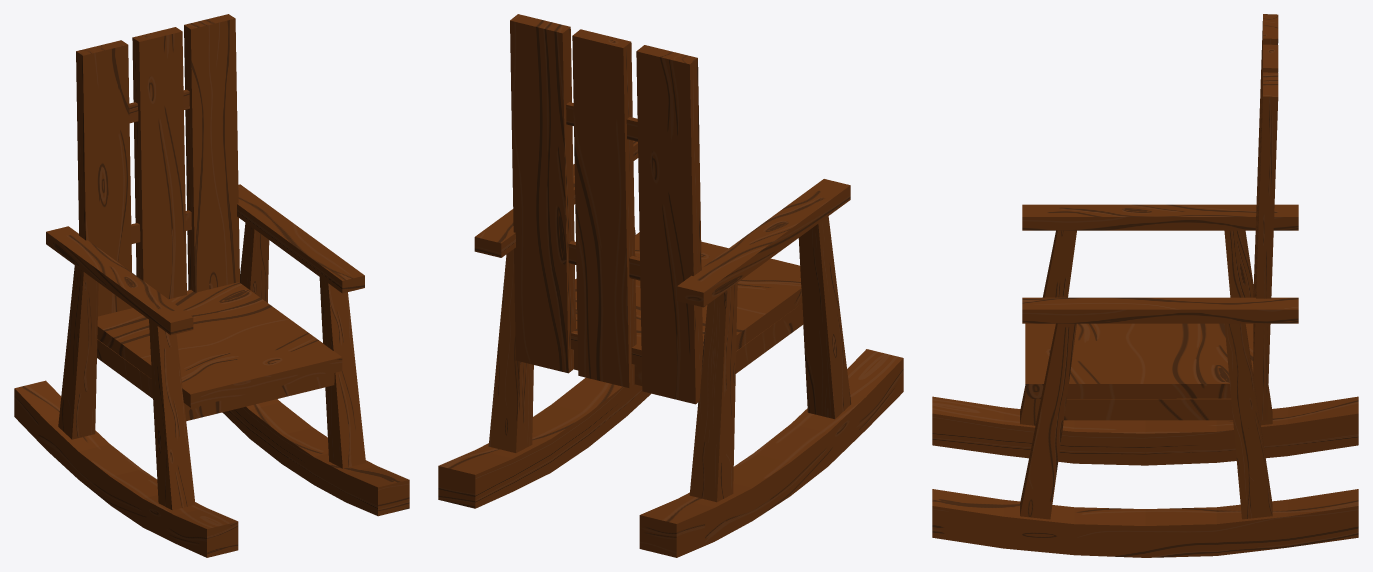
Rendered from Сhair.fbx.
3 renders of one model, left to right at view 1: azimuth 30°, elevation 25°; view 2: azimuth 150°, elevation 25°; view 3: azimuth 270°, elevation 25°, orthographic. The views are drawn at different scales.
Visible parts, largest first — view 1: Cube.072, Cube.075, Cube.074, Cube.073, Cube.009, Cube.064, Cube.066, Cube.068, Cube.065, Cube.012, Cube.070, Cube.071 (+1 smaller); view 2: Cube.075, Cube.073, Cube.074, Cube.009, Cube.064, Cube.065, Cube.066, Cube.012, Cube.072, Cube.067, Cube.071, Cube.070; view 3: Cube.064, Cube.009, Cube.072, Cube.070, Cube.012, Cube.068, Cube.067, Cube.075, Cube.071, Cube.066, Cube.065, Cube.073 (+1 smaller).
Boxes of the visible parts, bbox=[...] form: Cube.072: bbox=[97, 282, 342, 407]; Cube.075: bbox=[184, 14, 239, 292]; Cube.074: bbox=[132, 27, 186, 299]; Cube.073: bbox=[76, 40, 132, 316]; Cube.009: bbox=[14, 380, 238, 557]; Cube.064: bbox=[222, 399, 409, 516]; Cube.066: bbox=[149, 320, 195, 510]; Cube.068: bbox=[319, 277, 365, 468]; Cube.065: bbox=[58, 265, 98, 439]; Cube.012: bbox=[46, 226, 193, 335]; Cube.070: bbox=[237, 184, 364, 293]; Cube.071: bbox=[97, 339, 334, 420]; Cube.075: bbox=[510, 14, 575, 373]; Cube.073: bbox=[636, 45, 702, 404]; Cube.074: bbox=[572, 29, 636, 387]; Cube.009: bbox=[639, 349, 903, 557]; Cube.064: bbox=[438, 377, 650, 508]; Cube.065: bbox=[689, 283, 737, 502]; Cube.066: bbox=[798, 216, 851, 419]; Cube.012: bbox=[677, 179, 850, 307]; Cube.072: bbox=[571, 232, 802, 366]; Cube.067: bbox=[488, 249, 533, 452]; Cube.071: bbox=[574, 303, 803, 385]; Cube.070: bbox=[474, 141, 638, 257]; Cube.064: bbox=[932, 489, 1358, 557]; Cube.009: bbox=[932, 396, 1358, 465]; Cube.072: bbox=[1025, 323, 1253, 398]; Cube.070: bbox=[1022, 297, 1298, 323]; Cube.012: bbox=[1022, 204, 1298, 230]; Cube.068: bbox=[1020, 323, 1076, 519]; Cube.067: bbox=[1224, 323, 1272, 519]; Cube.075: bbox=[1253, 72, 1278, 420]; Cube.071: bbox=[1064, 398, 1232, 420]; Cube.066: bbox=[1020, 230, 1076, 425]; Cube.065: bbox=[1224, 230, 1272, 425]; Cube.073: bbox=[1253, 14, 1278, 297].
Size of the model in its own units: 270 by 517 by 446.
